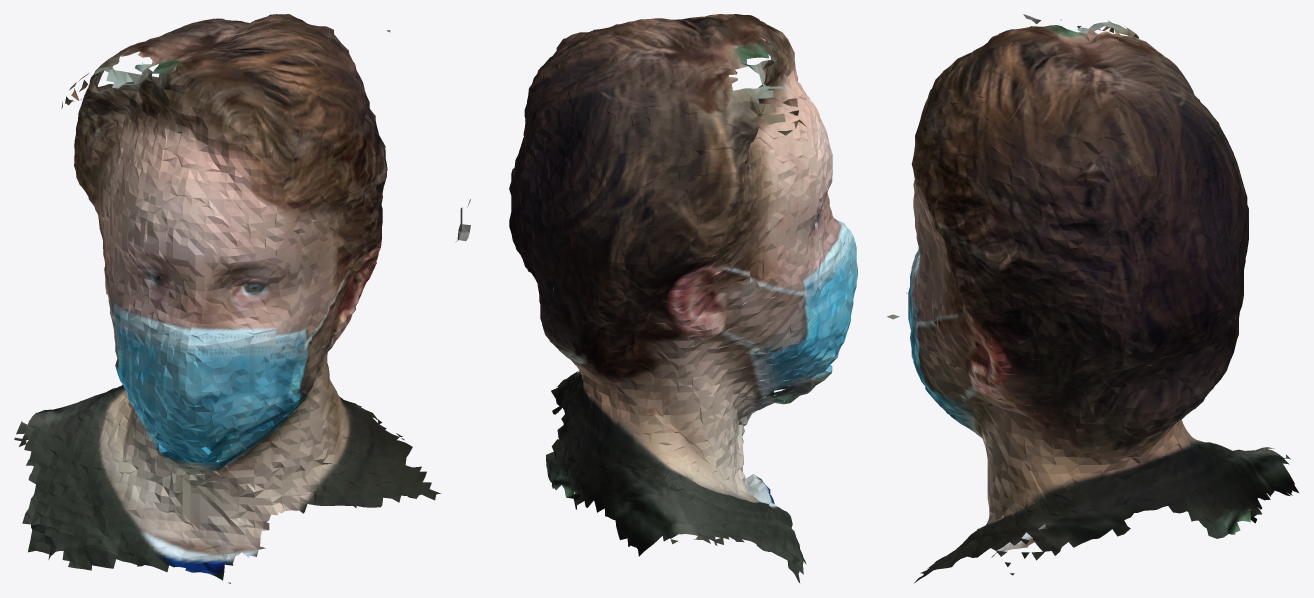
File: janoschkopf.gltf
3 views of the same model, side by side, from view 1: azimuth 30°, elevation 25°; view 2: azimuth 150°, elevation 25°; view 3: azimuth 270°, elevation 25° (orthographic). The views are drawn at different scales.
Bounding box in the file's own units: 0.256 × 0.348 × 0.245.
1 material, 1 textured.
